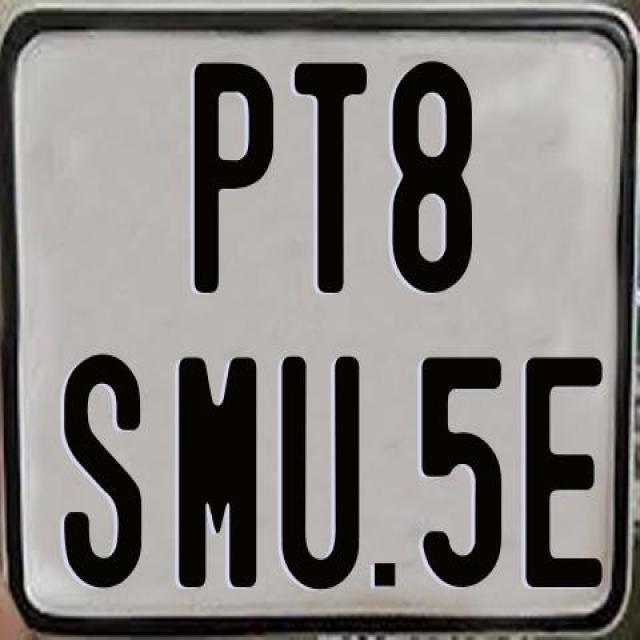5: (418, 355, 498, 592)
8: (392, 59, 475, 299)
E: (522, 353, 606, 592)
M: (174, 357, 254, 597)
P: (190, 58, 278, 292)
S: (61, 352, 146, 594)
T: (292, 58, 369, 294)
U: (280, 352, 360, 587)
